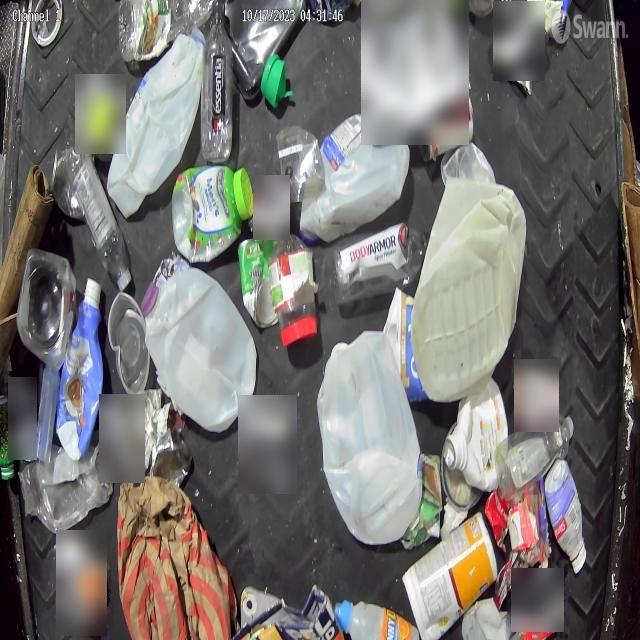milk_jug: (410, 178, 526, 404), (320, 330, 422, 542), (146, 262, 258, 430), (108, 29, 207, 218), (299, 135, 412, 243)
non_white_jug: (54, 279, 106, 459)
plastic_bottle: (65, 136, 132, 292), (494, 414, 574, 498), (202, 8, 234, 164)
